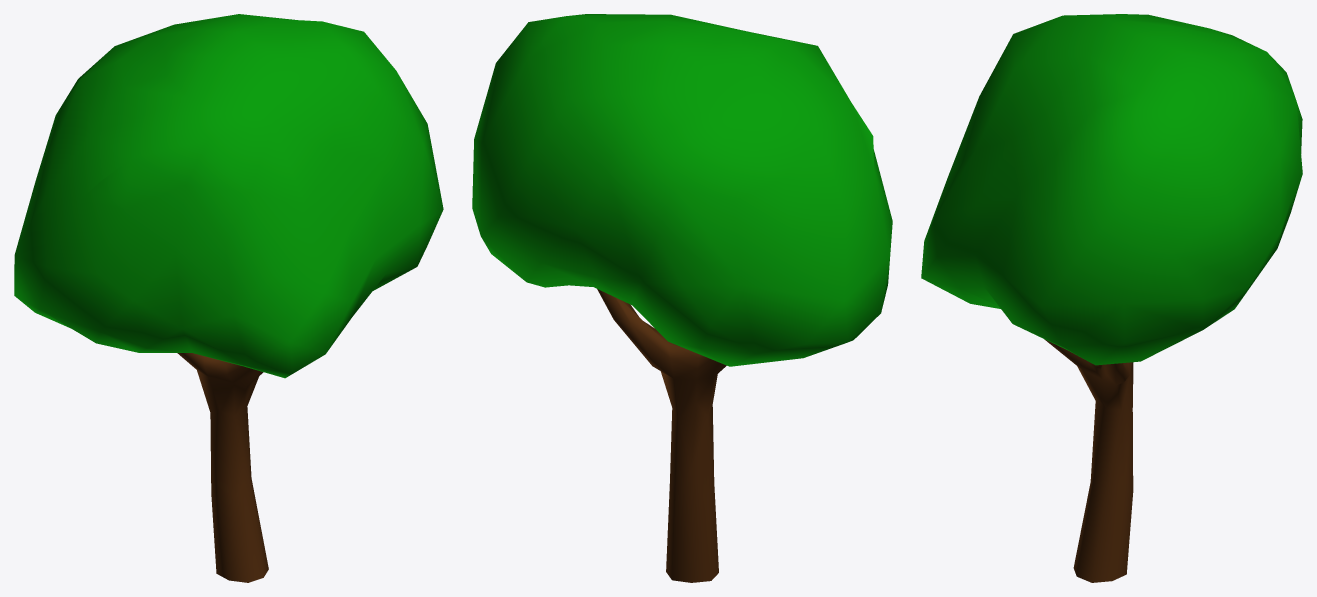
The model's file is Tree_5.fbx.
The picture shows the model from 3 angles, left to right: view 1: azimuth 30°, elevation 25°; view 2: azimuth 150°, elevation 25°; view 3: azimuth 270°, elevation 25°; orthographic projection. The views are drawn at different scales.
Parts seen in each view (by area): view 1: Tree_E; view 2: Tree_E; view 3: Tree_E.
Part boxes in pixels (left/top/right/bottom): Tree_E: left=14, top=14, right=443, bottom=582; Tree_E: left=472, top=14, right=892, bottom=582; Tree_E: left=921, top=14, right=1302, bottom=582.
Size of the model in its own units: 98.89 by 85.01 by 134.
